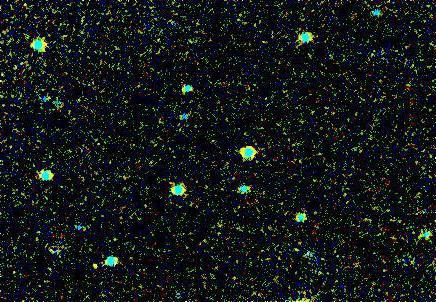star: (72, 251, 102, 281)
